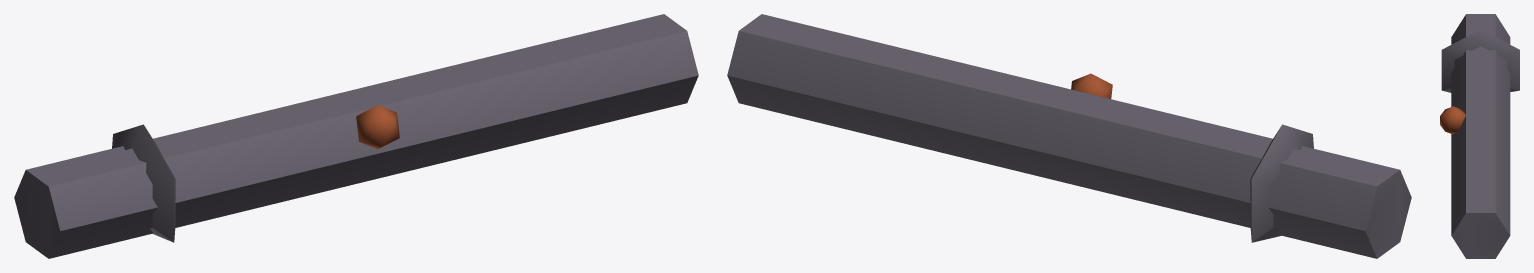
File: curio_keyShaft.glb
3 views of the same model, side by side, from view 1: azimuth 30°, elevation 25°; view 2: azimuth 150°, elevation 25°; view 3: azimuth 270°, elevation 25° (orthographic). The views are drawn at different scales.
Parts seen in each view (by area): view 1: curio_keyShaft; view 2: curio_keyShaft; view 3: curio_keyShaft.
Boxes of the visible parts, bbox=[...] form: curio_keyShaft: bbox=[14, 14, 698, 258]; curio_keyShaft: bbox=[727, 14, 1411, 258]; curio_keyShaft: bbox=[1440, 14, 1519, 258].
Size of the model in its own units: 0.12 by 0.019 by 0.0204.
